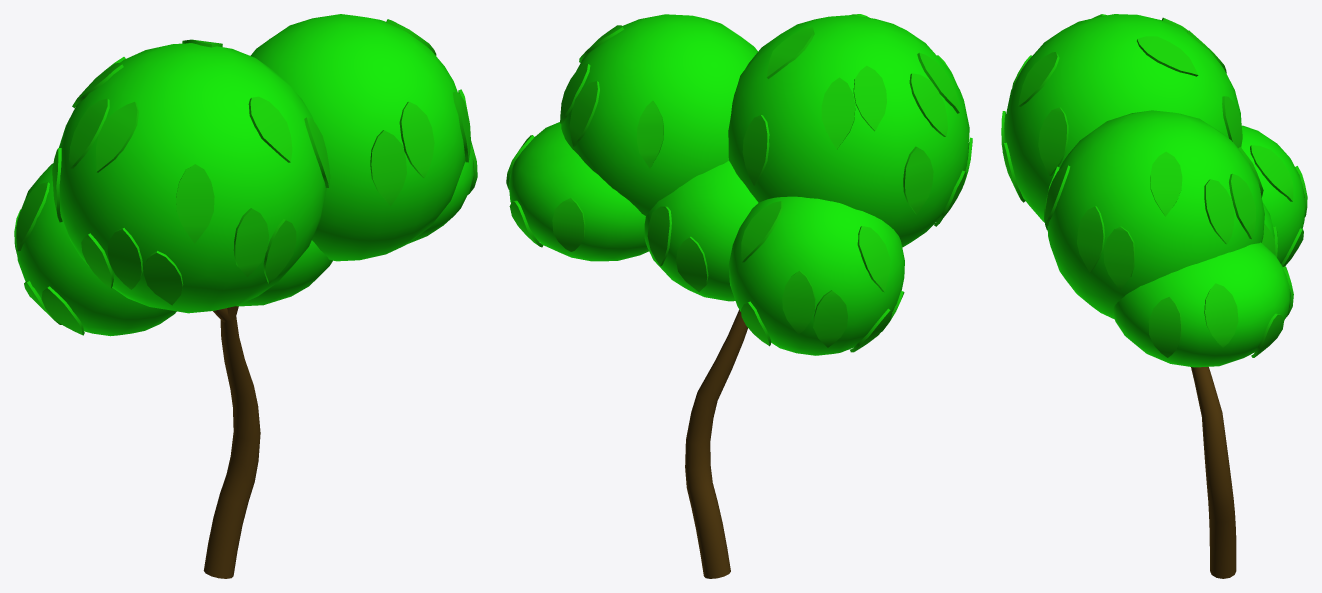
Rendered from Apple_lvl3.fbx.
3 views of the same model, side by side, from view 1: azimuth 30°, elevation 25°; view 2: azimuth 150°, elevation 25°; view 3: azimuth 270°, elevation 25° (orthographic). The views are drawn at different scales.
Parts seen in each view (by area): view 1: Apple_tree_lvl3_LOD0; view 2: Apple_tree_lvl3_LOD0; view 3: Apple_tree_lvl3_LOD0.
Part boxes in pixels (x1=…): Apple_tree_lvl3_LOD0: x1=14, y1=14, x2=477, y2=578; Apple_tree_lvl3_LOD0: x1=506, y1=14, x2=972, y2=578; Apple_tree_lvl3_LOD0: x1=1001, y1=14, x2=1307, y2=578.
Size of what is drawn, in the model's own units: 256 by 178 by 329.
